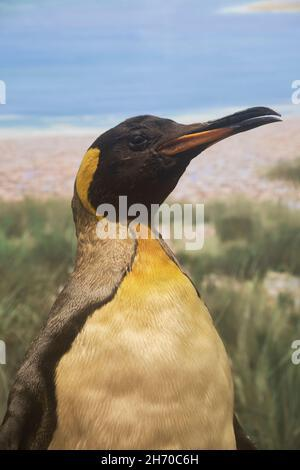king: (25, 63, 300, 470)
